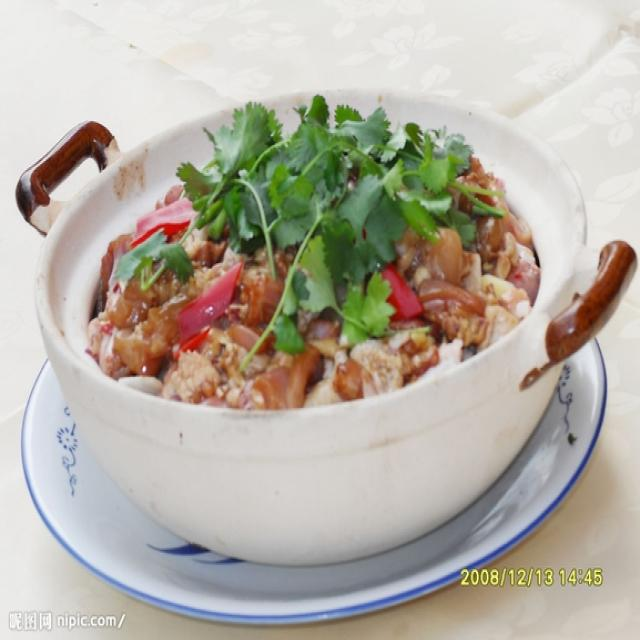汤锅炖物: (24, 41, 624, 598)
